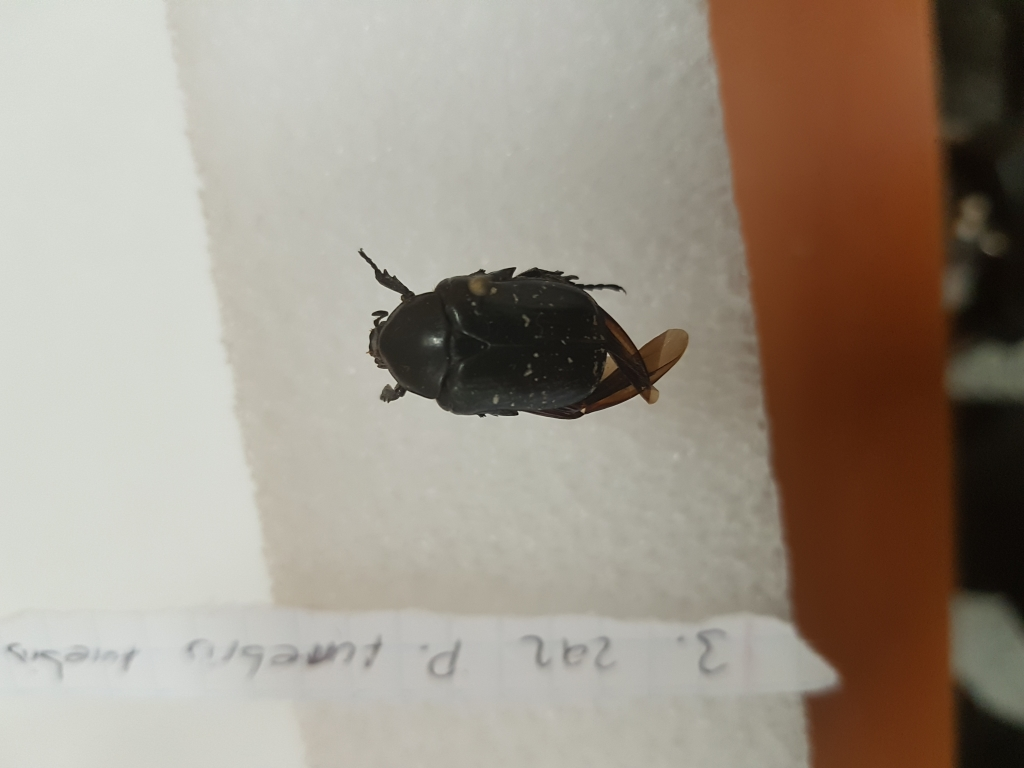Protaetia_funebris_funebris: (352, 243, 728, 426)
